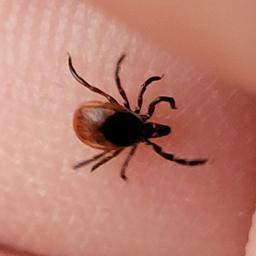Ixodes scapularis: (62, 52, 208, 181)
